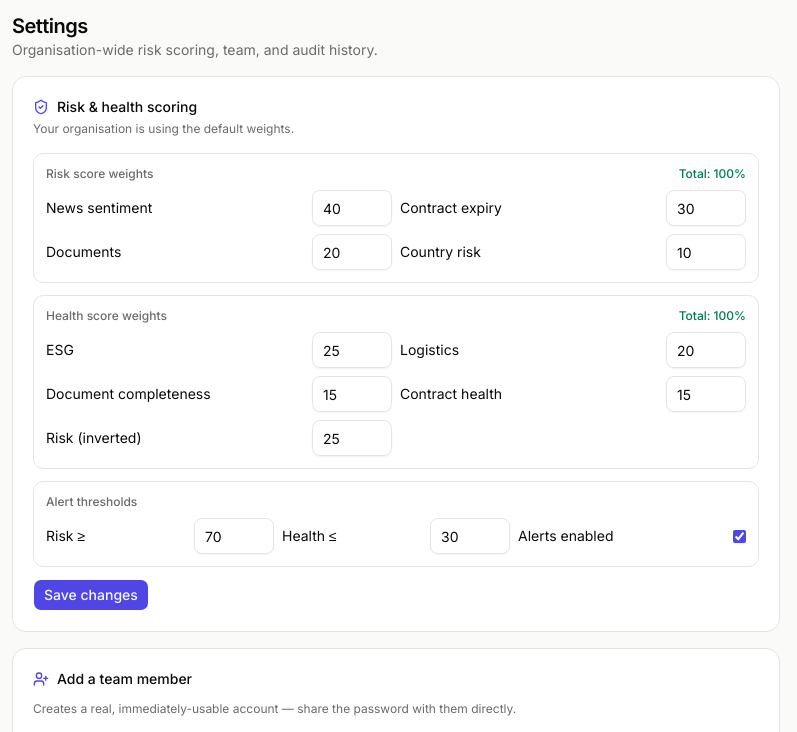
Settings > risk config weight-sum validation › bringing the total back to exactly 100% re-enables Save
Expected: the text "Total: 100%" is shown 2 times, [679,166,746,182]; [679,308,746,324]
Replace the text in the number field labelled "News sentiment" with "90". click: (352, 208)
box: [312,190,392,226]
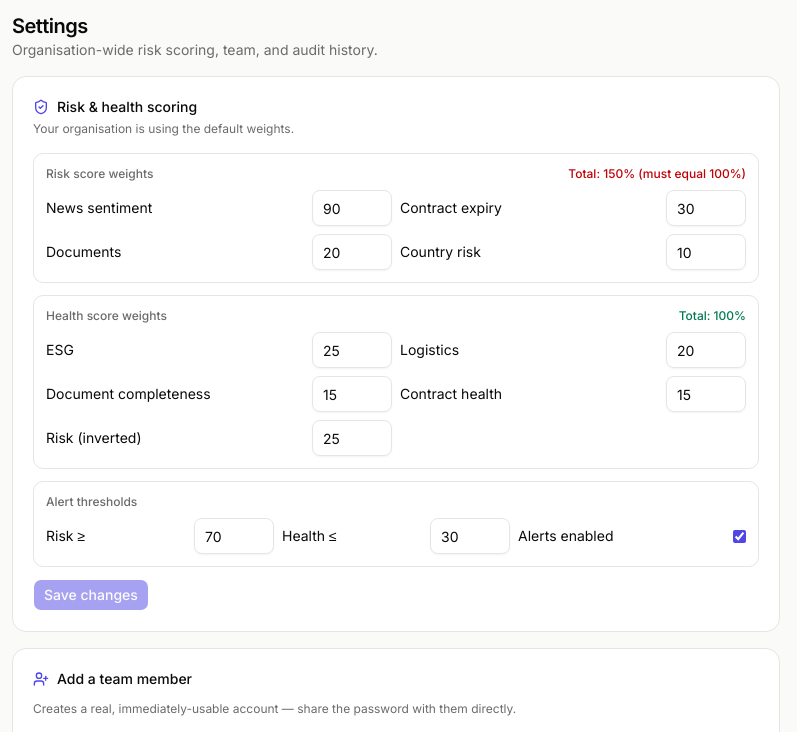
Expected: the button "Save changes" is disabled, [33,579,149,611]
Replace the text in the number field labelled "News sentiment" with "40". click: (352, 208)
box: [312,190,392,226]
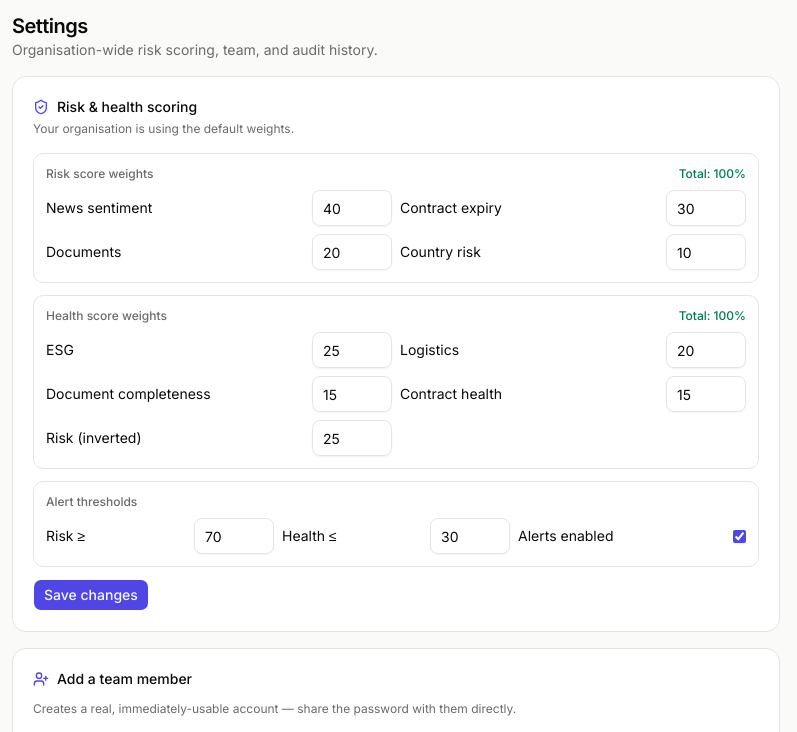
Expected: the text "Total: 100%" is shown 2 times, [679,166,746,182]; [679,308,746,324]
Expected: the text "must equal 100%" is gone
Expected: the button "Save changes" is enabled, [33,579,149,611]
